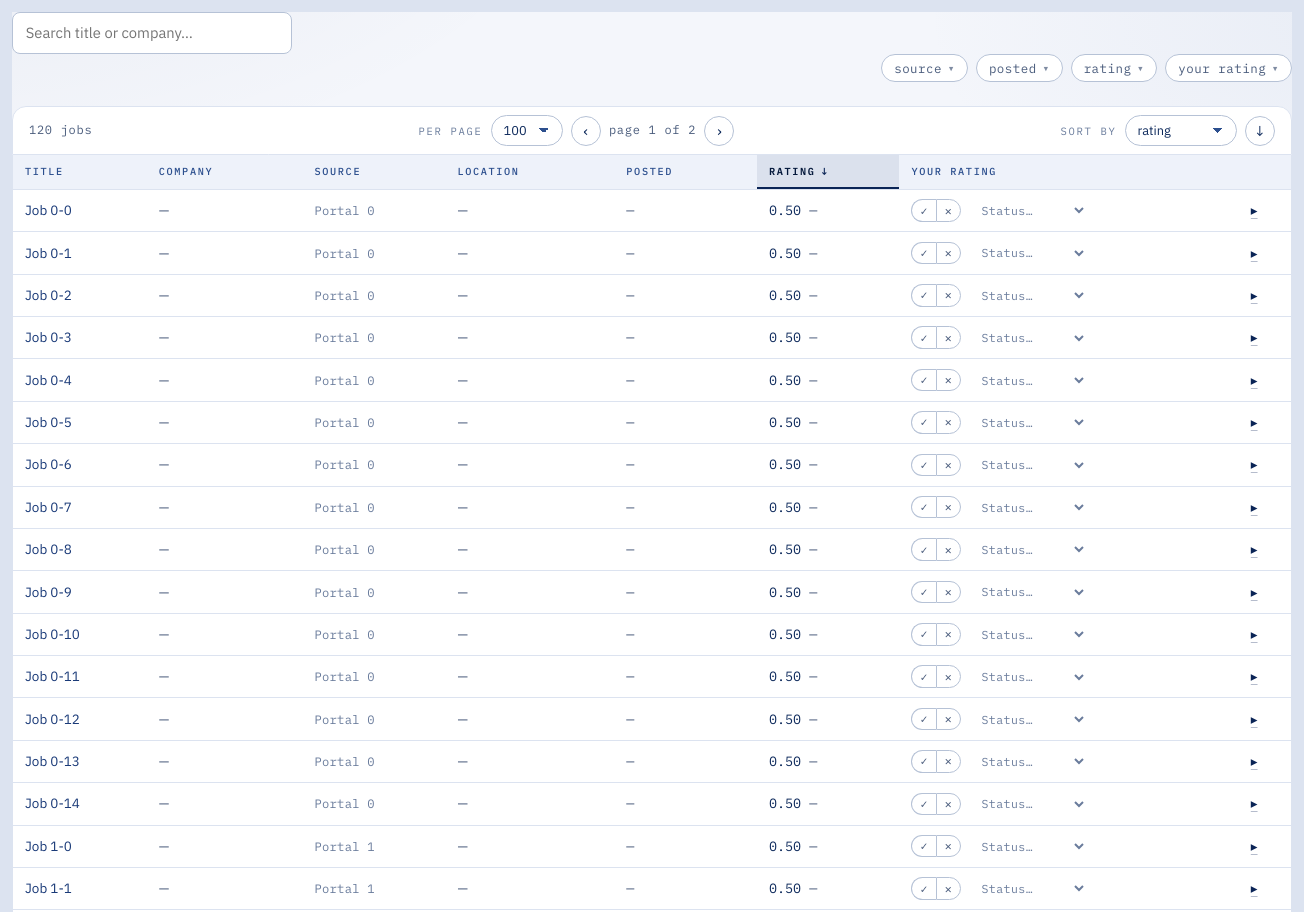
it: collapsed filter groups › narrows a long source list by search
Click the button "source ▾" at x=925, y=68, box [881, 54, 968, 82]
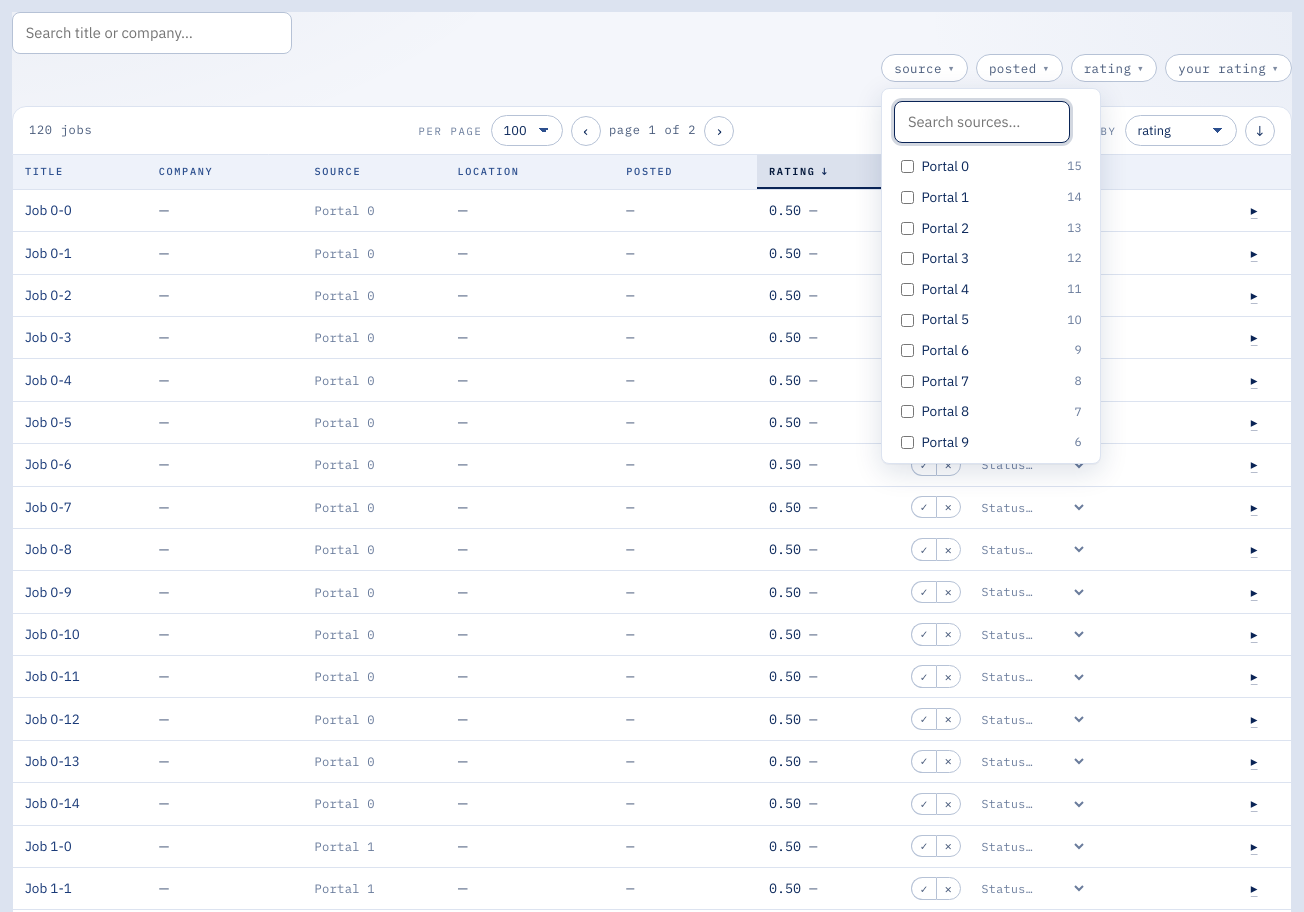
Type "Portal 11" into the search field with placeholder "Search sources…" at x=982, y=122, box [894, 101, 1070, 143]
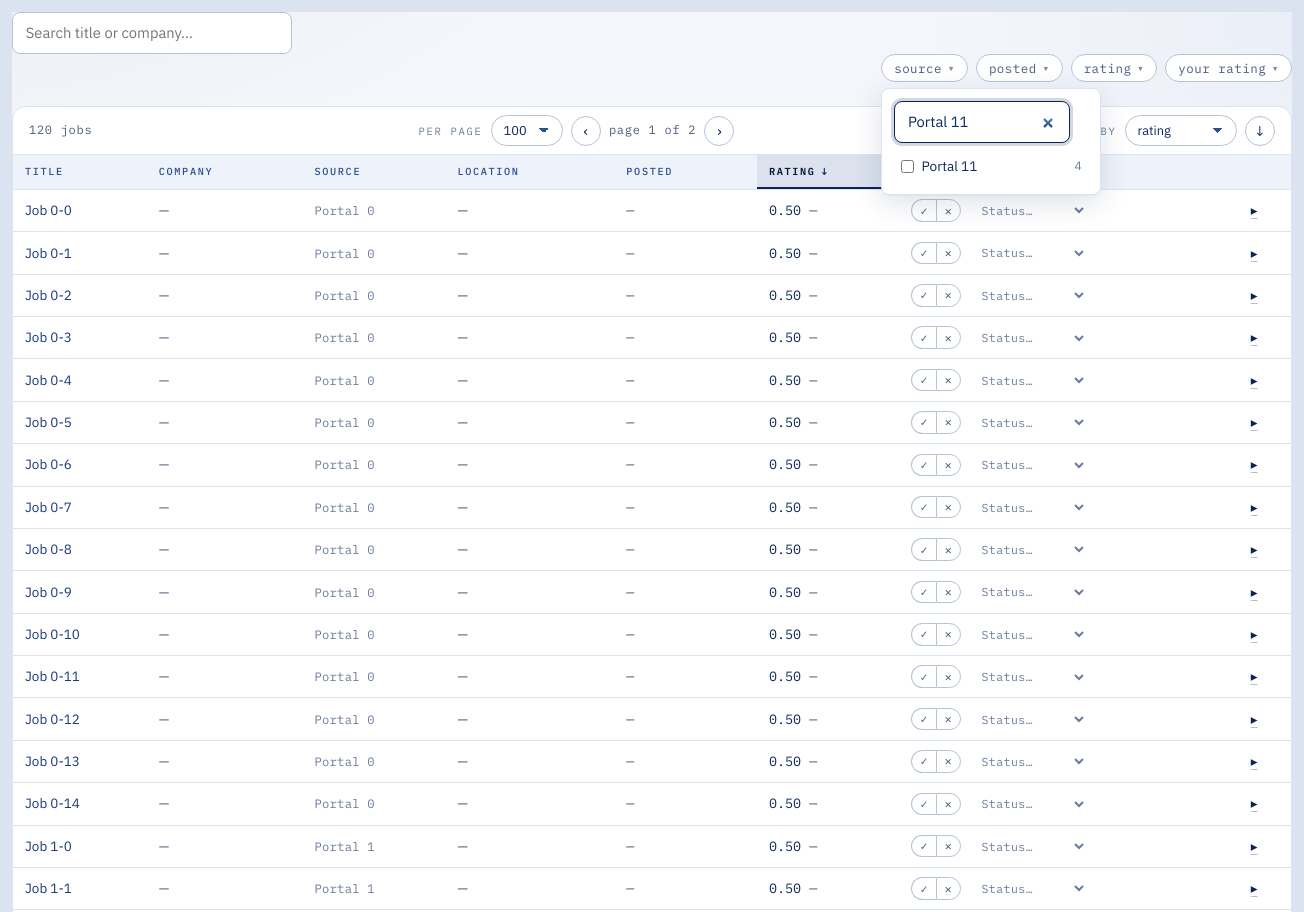
Result: the number of checkboxes is 1 at [900, 160, 914, 173]
